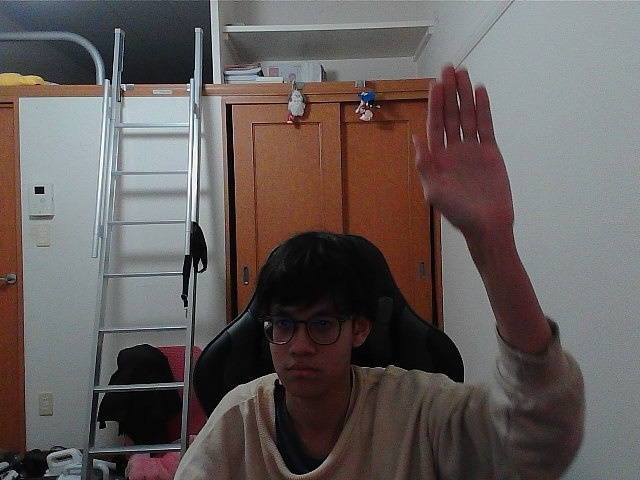open_palm: (418, 73, 490, 220)
